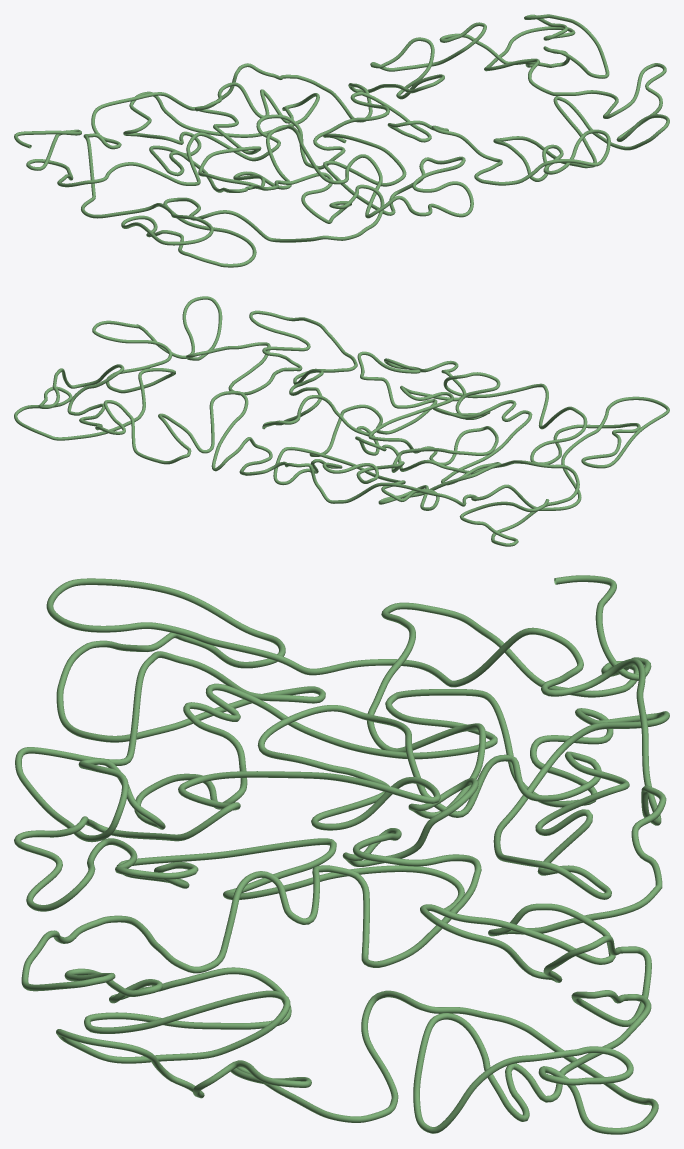
The picture shows the model from 3 angles, top to bottom: view 1: azimuth 30°, elevation 25°; view 2: azimuth 150°, elevation 25°; view 3: azimuth 270°, elevation 25°; orthographic projection. The views are drawn at different scales.
Parts seen in each view (by area): view 1: T1_1_2; view 2: T1_1_2; view 3: T1_1_2.
Part boxes in pixels (bbox=[...]): T1_1_2: bbox=[14, 14, 669, 267]; T1_1_2: bbox=[14, 296, 669, 546]; T1_1_2: bbox=[14, 575, 669, 1134].
Bounding box in the file's own units: 421 × 32.47 × 232.
